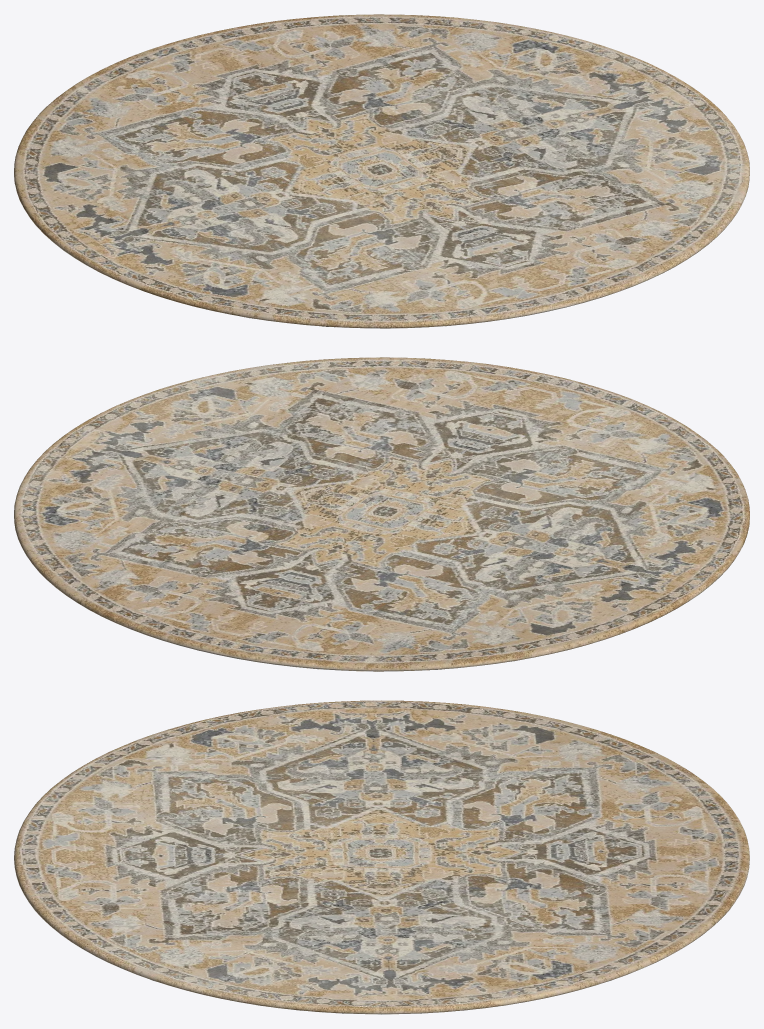
File: jarnvag_dywan_z_krotkim_wosiem_10626742.glb
3 views of the same model, one above another, from view 1: azimuth 30°, elevation 25°; view 2: azimuth 150°, elevation 25°; view 3: azimuth 270°, elevation 25° (orthographic).
Visible parts, largest first — view 1: jarnvag_dywan_z_krotkim_wosiem_10626742; view 2: jarnvag_dywan_z_krotkim_wosiem_10626742; view 3: jarnvag_dywan_z_krotkim_wosiem_10626742.
Part boxes in pixels (x1,y1,x2,y2): jarnvag_dywan_z_krotkim_wosiem_10626742: (14, 14, 749, 328); jarnvag_dywan_z_krotkim_wosiem_10626742: (14, 357, 749, 671); jarnvag_dywan_z_krotkim_wosiem_10626742: (14, 700, 749, 1014).
Size of the model in its own units: 1.95 by 0.0153 by 1.95.
Materials: 2 (2 with a texture image).
